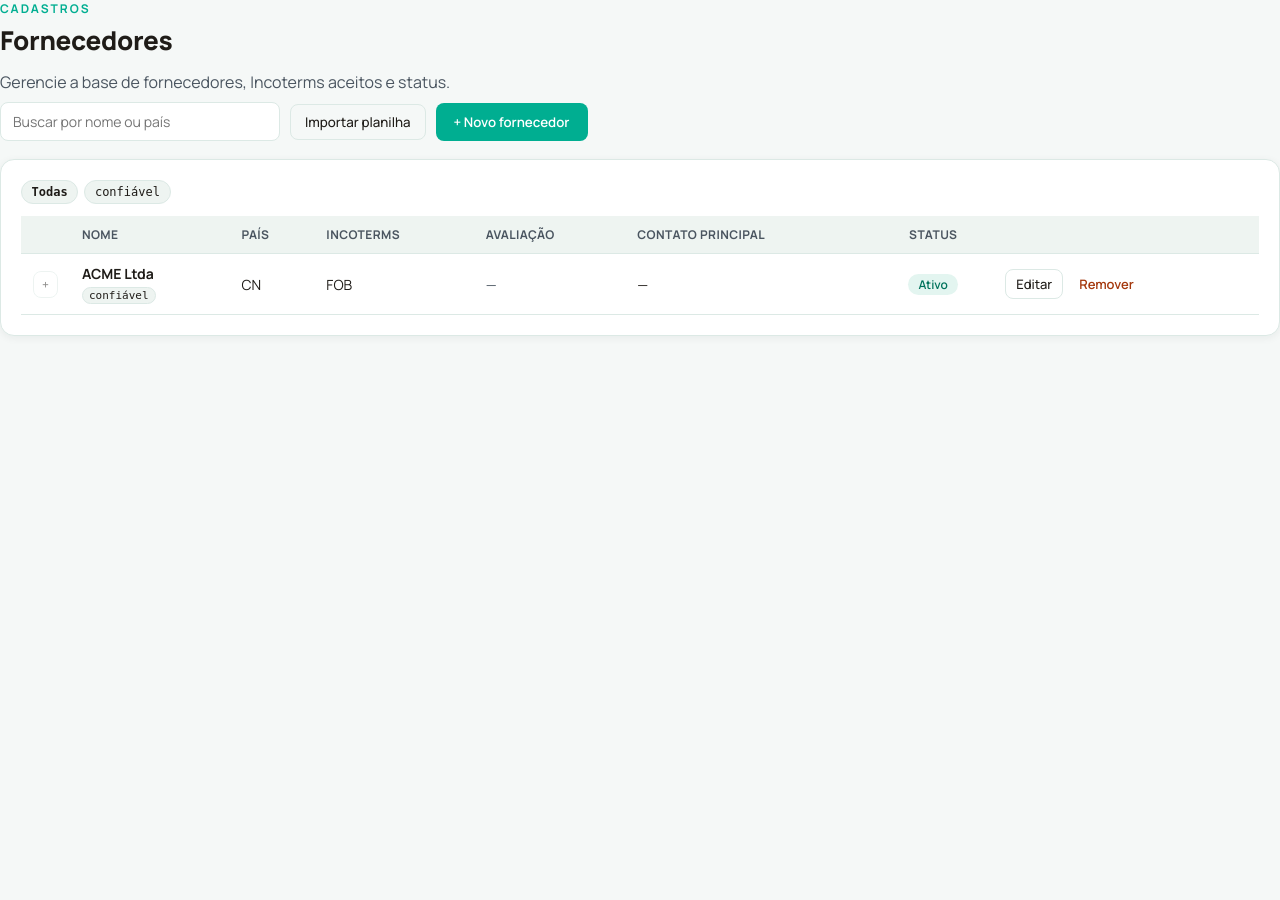
Fornecedores › 2. "+ Novo fornecedor" abre só o índice 1 (fornecedor)
Expected: the text "ACME Ltda" is shown, left=82, top=264, right=154, bottom=283
Click the button "+ Novo fornecedor". click: (512, 122)
box: left=436, top=102, right=588, bottom=140
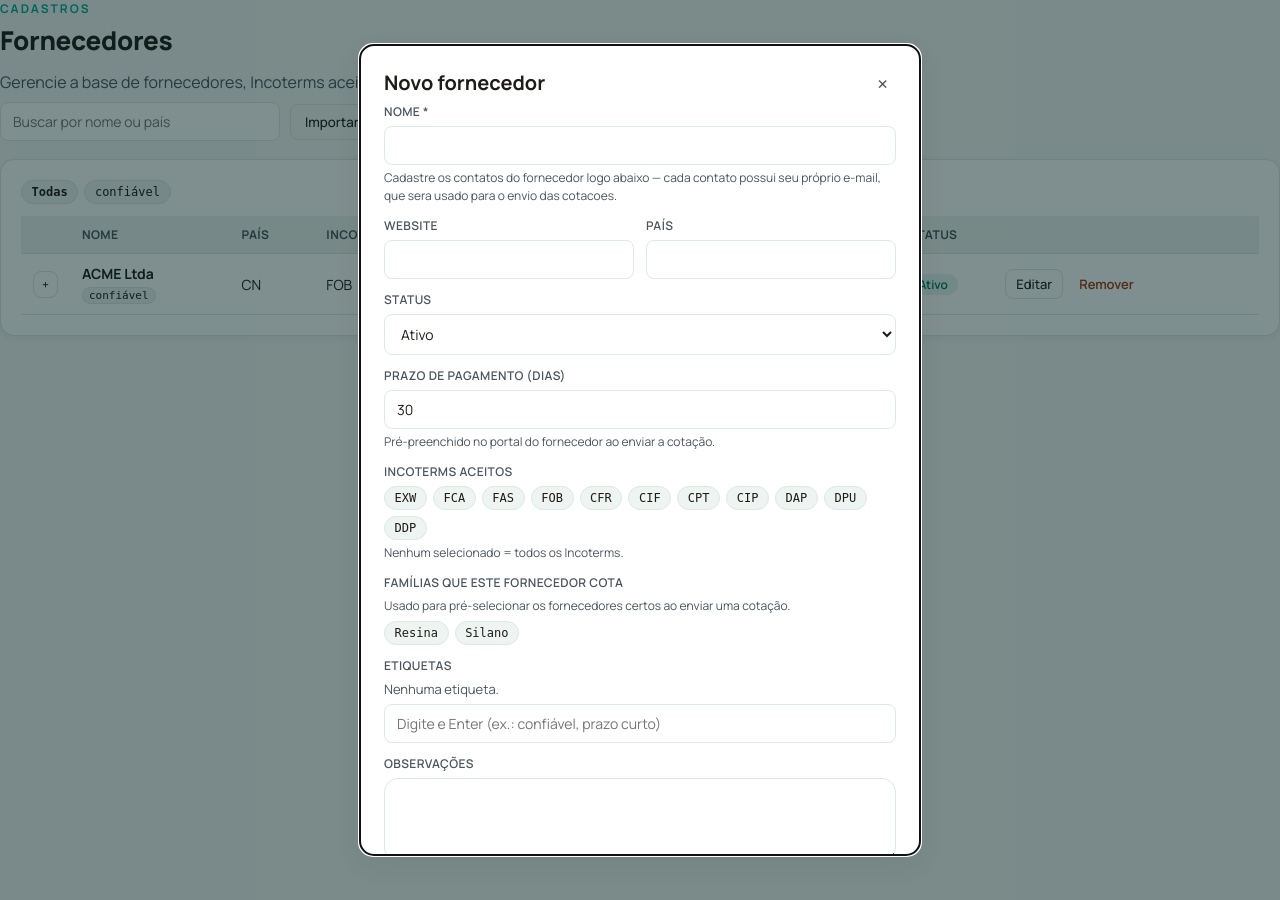
Expected: the heading "Novo fornecedor" is shown, left=384, top=69, right=545, bottom=96
